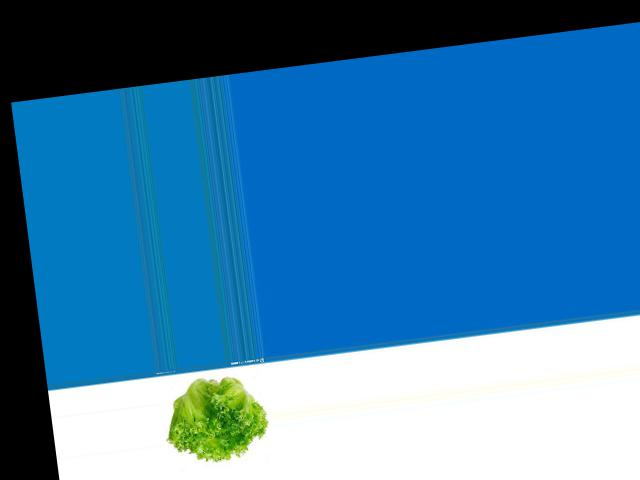lettuce: (162, 365, 272, 470)
